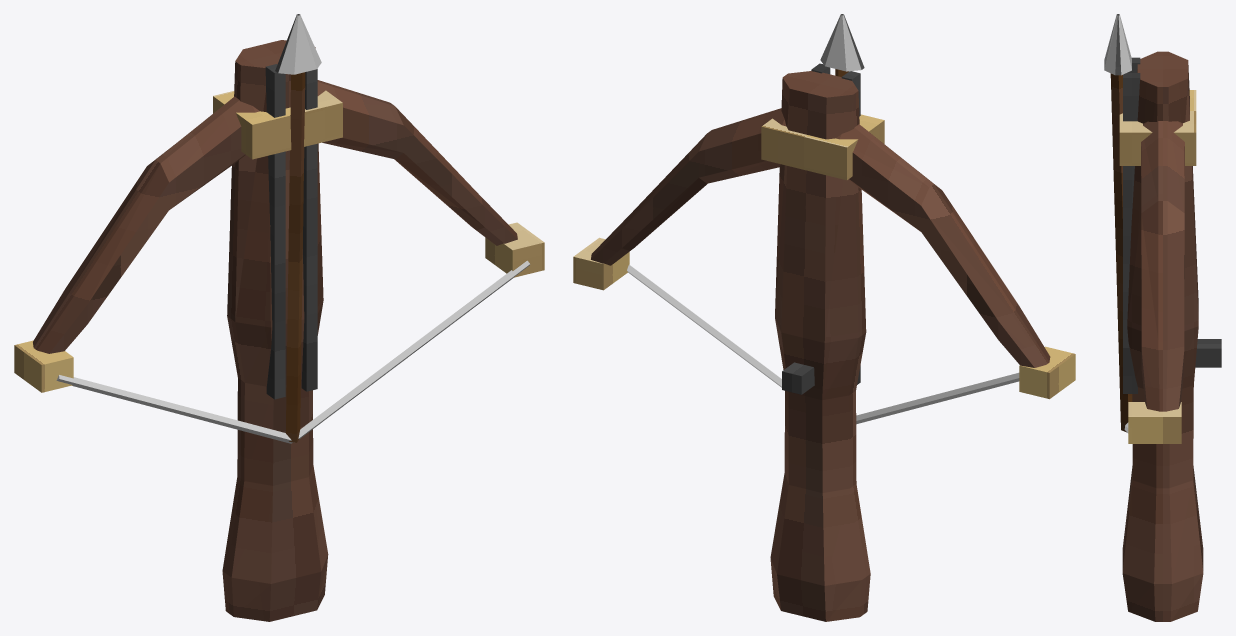
Rendered from cutout.obj.
The picture shows the model from 3 angles, left to right: view 1: azimuth 30°, elevation 25°; view 2: azimuth 150°, elevation 25°; view 3: azimuth 270°, elevation 25°; orthographic projection. The views are drawn at different scales.
Size of the model in its own units: 1.14 by 1.31 by 0.2375.
